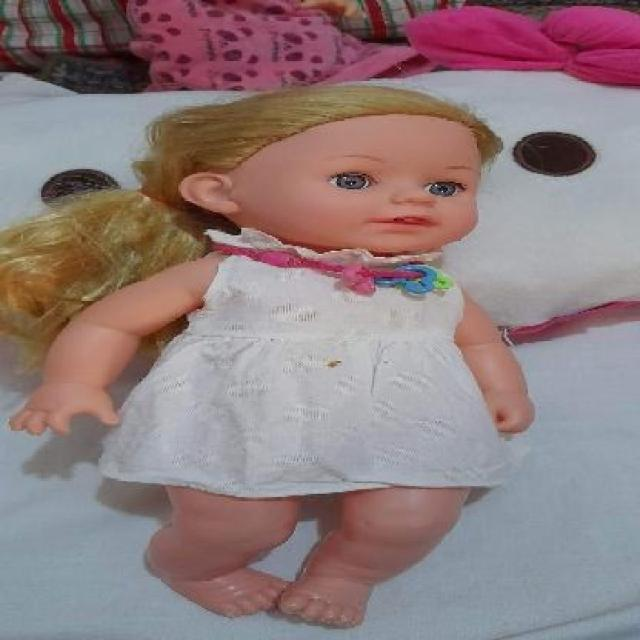non-dog: (2, 82, 536, 628)
